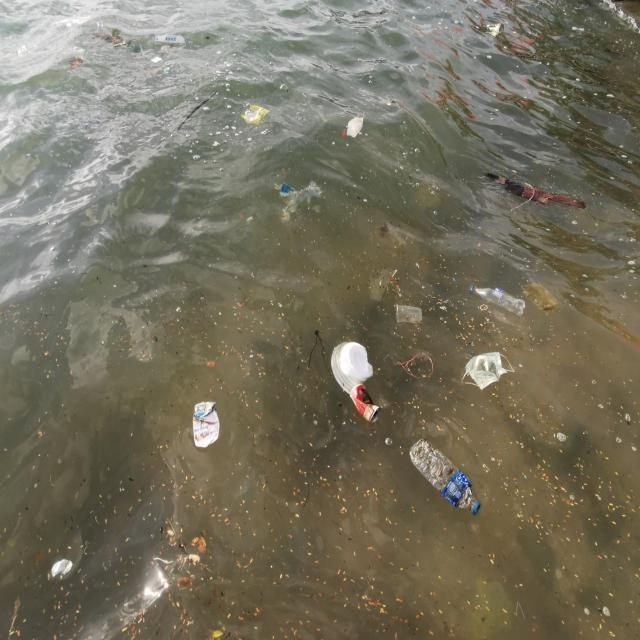can: (350, 382, 380, 424)
foam: (332, 342, 374, 394)
plastic: (410, 438, 481, 516), (470, 286, 525, 316)
plastic bottle: (278, 179, 322, 221), (342, 111, 365, 141), (241, 104, 270, 124), (395, 306, 423, 324), (51, 558, 74, 577), (486, 21, 505, 37), (156, 34, 186, 43)
unknow: (488, 172, 588, 212), (461, 352, 516, 388), (193, 402, 219, 448), (95, 34, 125, 44)
